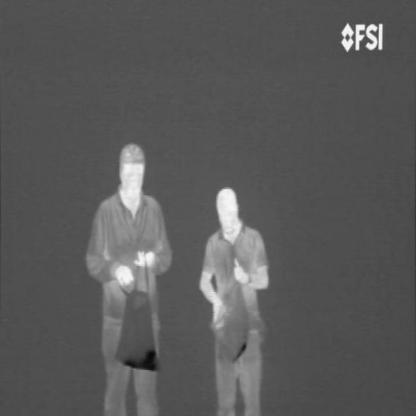weapon: (122, 344, 158, 373)
